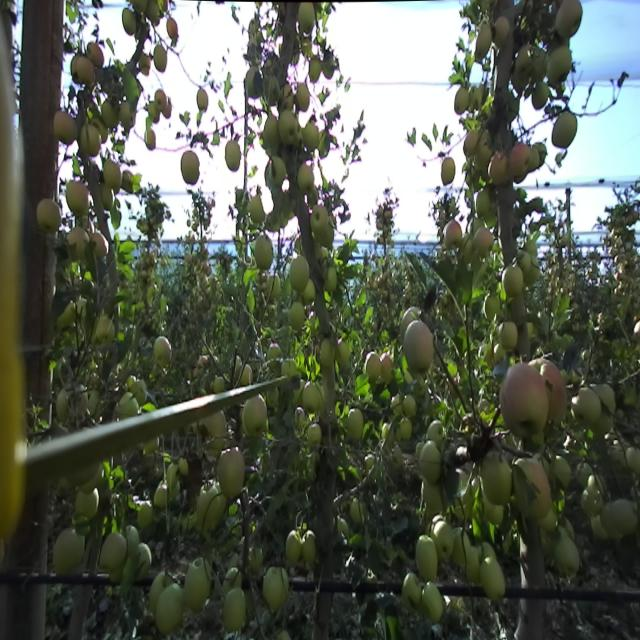apple: (500, 365, 548, 438), (530, 358, 566, 426), (514, 458, 548, 521), (482, 449, 512, 504), (54, 527, 83, 578), (405, 322, 433, 374), (156, 584, 184, 633), (186, 560, 210, 612), (572, 385, 600, 428), (218, 451, 244, 496), (200, 412, 228, 451), (552, 109, 578, 148), (547, 44, 571, 86), (555, 0, 582, 37), (197, 481, 219, 525), (265, 565, 287, 608), (556, 538, 580, 577), (224, 587, 245, 631), (422, 581, 444, 623), (101, 532, 125, 570), (36, 198, 60, 235), (483, 556, 504, 598), (245, 395, 267, 435), (416, 536, 436, 580), (613, 496, 636, 534), (54, 109, 77, 145), (420, 441, 440, 479), (402, 569, 420, 609), (66, 180, 89, 211), (254, 233, 274, 268), (399, 307, 419, 342), (292, 252, 310, 290), (433, 522, 453, 555), (132, 544, 151, 578), (149, 575, 168, 609), (180, 150, 200, 182), (300, 530, 318, 565), (510, 142, 530, 173), (103, 160, 121, 194), (302, 379, 320, 413), (489, 150, 507, 184), (423, 484, 443, 514), (310, 205, 328, 238), (299, 1, 315, 38), (68, 228, 89, 256), (82, 125, 102, 154), (77, 491, 97, 520), (279, 109, 296, 143), (592, 507, 609, 541), (297, 163, 315, 194), (522, 254, 540, 285), (498, 322, 517, 351), (579, 488, 601, 513), (516, 46, 532, 80), (268, 158, 286, 188), (475, 226, 493, 256), (286, 530, 301, 565), (226, 139, 242, 171), (264, 116, 280, 148), (304, 118, 319, 152), (96, 315, 114, 343), (153, 336, 171, 364), (136, 501, 154, 529), (485, 499, 505, 524), (347, 406, 362, 439), (494, 15, 509, 48), (246, 67, 263, 96), (483, 292, 500, 321), (468, 546, 480, 587), (503, 266, 521, 293), (366, 350, 381, 382), (533, 81, 549, 111), (454, 531, 468, 565), (90, 233, 109, 258), (119, 394, 138, 419), (476, 27, 491, 58), (446, 220, 462, 249), (125, 524, 139, 557), (222, 568, 242, 591), (78, 56, 94, 84), (120, 102, 136, 130), (320, 336, 334, 368), (533, 45, 546, 79), (72, 389, 90, 413), (249, 195, 265, 222), (289, 301, 304, 329), (323, 265, 338, 293), (338, 336, 350, 371), (103, 100, 119, 126), (126, 73, 139, 105), (381, 353, 395, 382), (428, 420, 446, 442), (153, 44, 167, 72), (308, 422, 322, 450), (441, 156, 455, 184), (88, 41, 104, 65), (92, 117, 108, 141), (122, 7, 136, 34), (532, 141, 547, 166), (297, 82, 310, 110), (57, 388, 69, 418), (309, 53, 321, 83), (155, 484, 168, 510), (454, 87, 467, 113), (469, 87, 483, 111), (477, 139, 489, 167), (350, 496, 362, 524), (109, 560, 124, 582), (133, 381, 147, 403), (166, 464, 178, 488), (399, 417, 412, 439), (268, 274, 279, 299), (480, 541, 495, 559), (166, 17, 178, 39), (464, 132, 476, 154), (404, 395, 416, 417), (70, 55, 80, 81), (156, 87, 166, 113), (462, 237, 473, 260), (102, 187, 114, 208), (122, 171, 134, 191), (518, 250, 530, 270), (525, 238, 538, 256), (140, 54, 151, 75), (198, 87, 208, 109), (303, 284, 315, 302), (390, 395, 401, 414), (149, 3, 160, 21), (145, 128, 154, 149), (529, 151, 539, 169)
